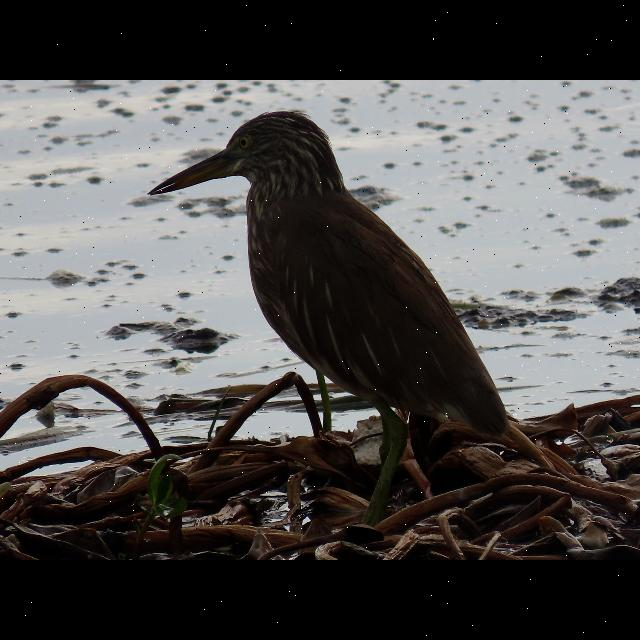heron: (138, 109, 532, 473)
